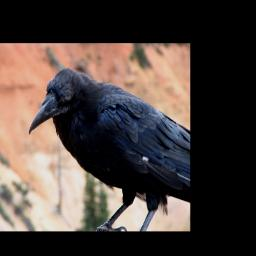Crow: (28, 64, 189, 231)
